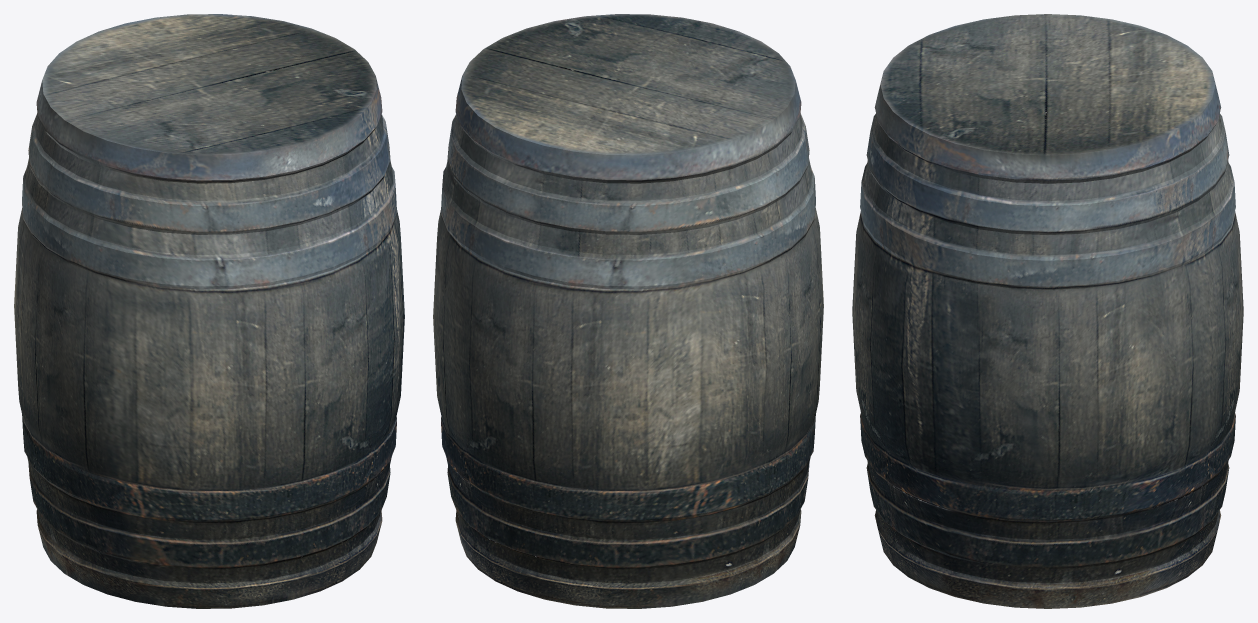
The model's file is barrel.obj.
The picture shows the model from 3 angles, left to right: view 1: azimuth 30°, elevation 25°; view 2: azimuth 150°, elevation 25°; view 3: azimuth 270°, elevation 25°; orthographic projection.
Parts seen in each view (by area): view 1: Mesh_Mesh_Cylinder.001; view 2: Mesh_Mesh_Cylinder.001; view 3: Mesh_Mesh_Cylinder.001.
Boxes of the visible parts, x1=… form: Mesh_Mesh_Cylinder.001: x1=14, y1=14, x2=404, y2=608; Mesh_Mesh_Cylinder.001: x1=433, y1=14, x2=823, y2=608; Mesh_Mesh_Cylinder.001: x1=852, y1=14, x2=1243, y2=608.
Bounding box in the file's own units: 9.44 × 12.06 × 9.44.
1 material, 1 textured.
